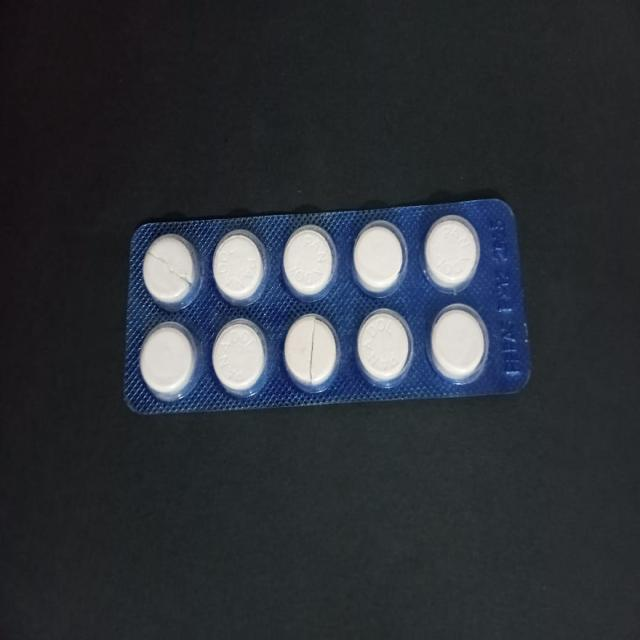defect: (140, 230, 203, 314), (281, 312, 342, 395)
